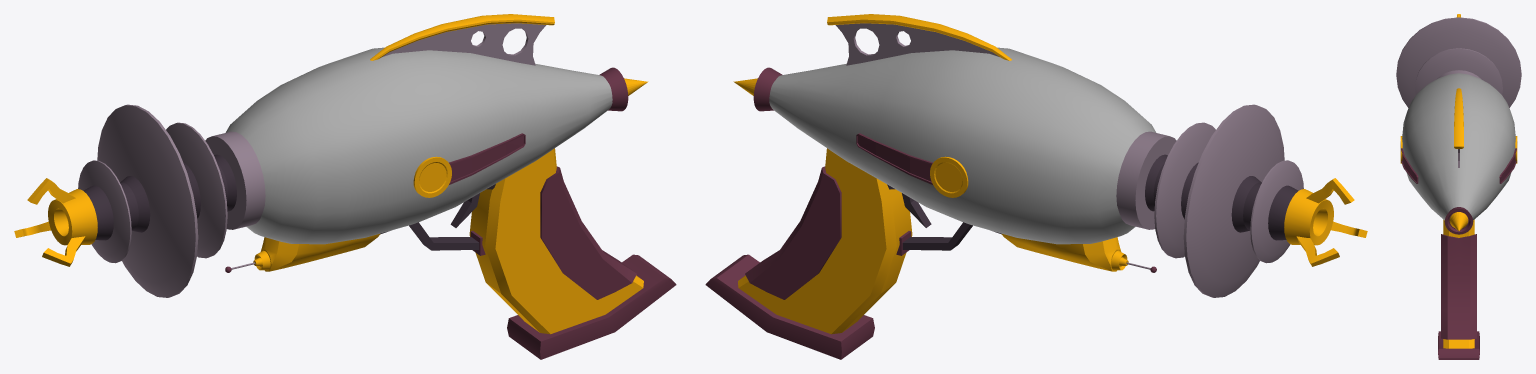
Rendered from RayGun.fbx.
The picture shows the model from 3 angles, left to right: view 1: azimuth 30°, elevation 25°; view 2: azimuth 150°, elevation 25°; view 3: azimuth 270°, elevation 25°; orthographic projection. The views are drawn at different scales.
Visible parts, largest first — view 1: Cylinder015; view 2: Cylinder015; view 3: Cylinder015.
Boxes of the visible parts, left/top/right/bottom form: Cylinder015: left=14, top=14, right=676, bottom=359; Cylinder015: left=705, top=14, right=1367, bottom=359; Cylinder015: left=1396, top=14, right=1521, bottom=359.
Bounding box in the file's own units: 203 × 105 × 54.92.
